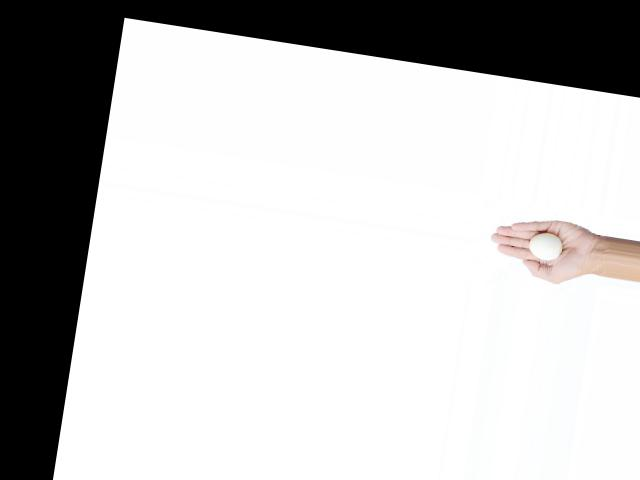egg: (526, 230, 563, 261)
